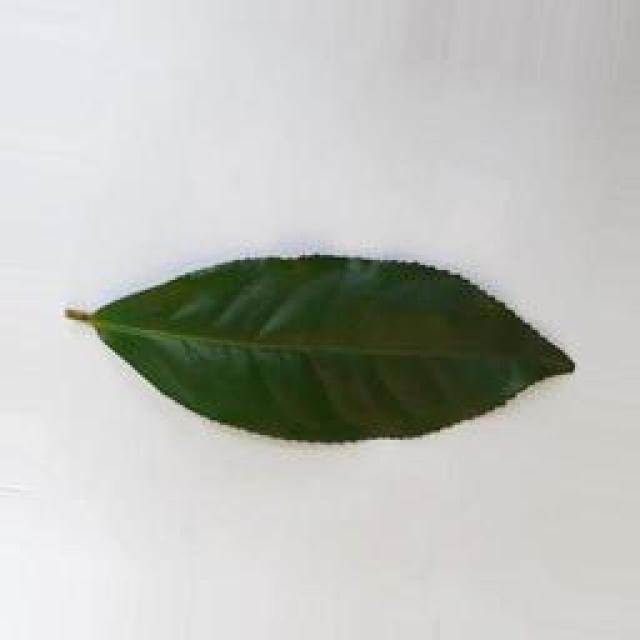Healthy: (60, 239, 586, 443)
